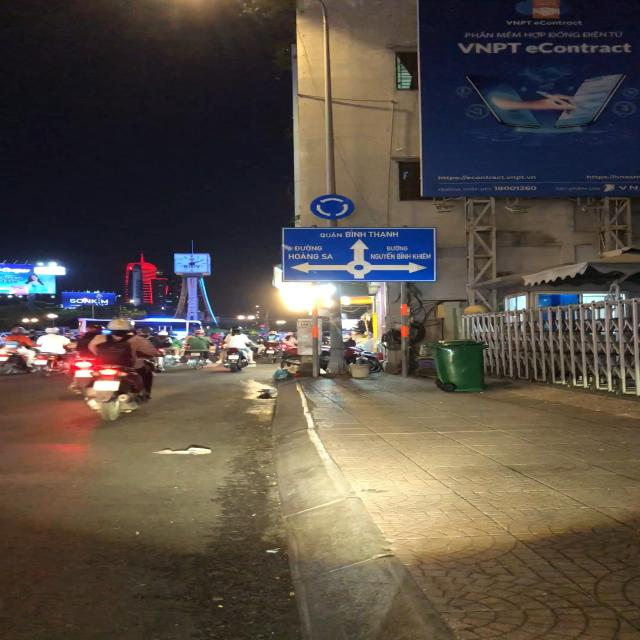Bien bao noi giao nhau chay theo vong xuyen: (309, 192, 357, 220)
